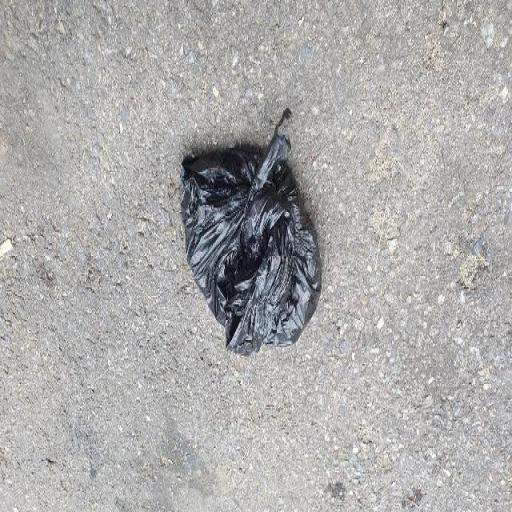plastic-bag: (180, 103, 324, 360)
